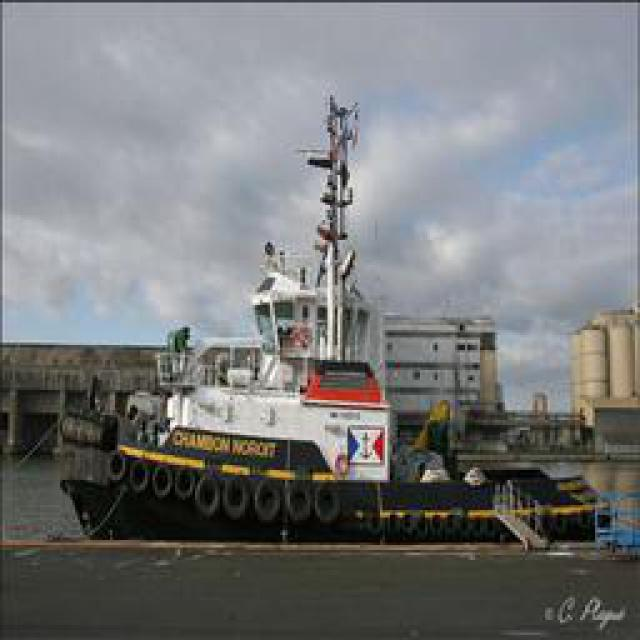Ship: (56, 84, 456, 539)
